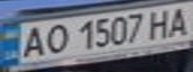0: (109, 13, 133, 46)
1: (72, 17, 96, 51)
5: (93, 16, 115, 48)
7: (124, 10, 151, 43)
A: (15, 24, 51, 58), (163, 3, 193, 38)
H: (145, 7, 175, 39)
O: (36, 21, 72, 55)
